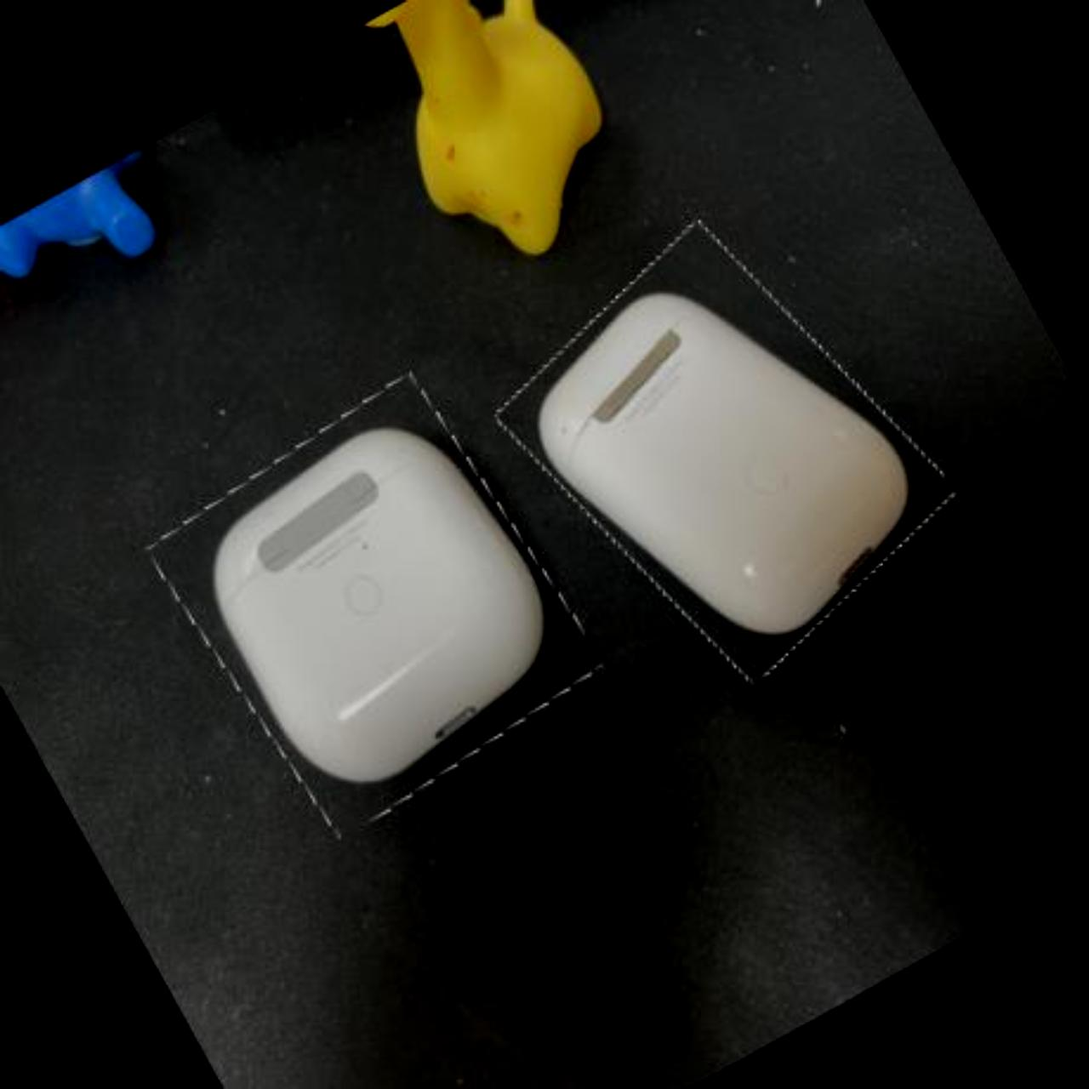AirPods: (484, 196, 964, 707), (143, 368, 607, 844)
